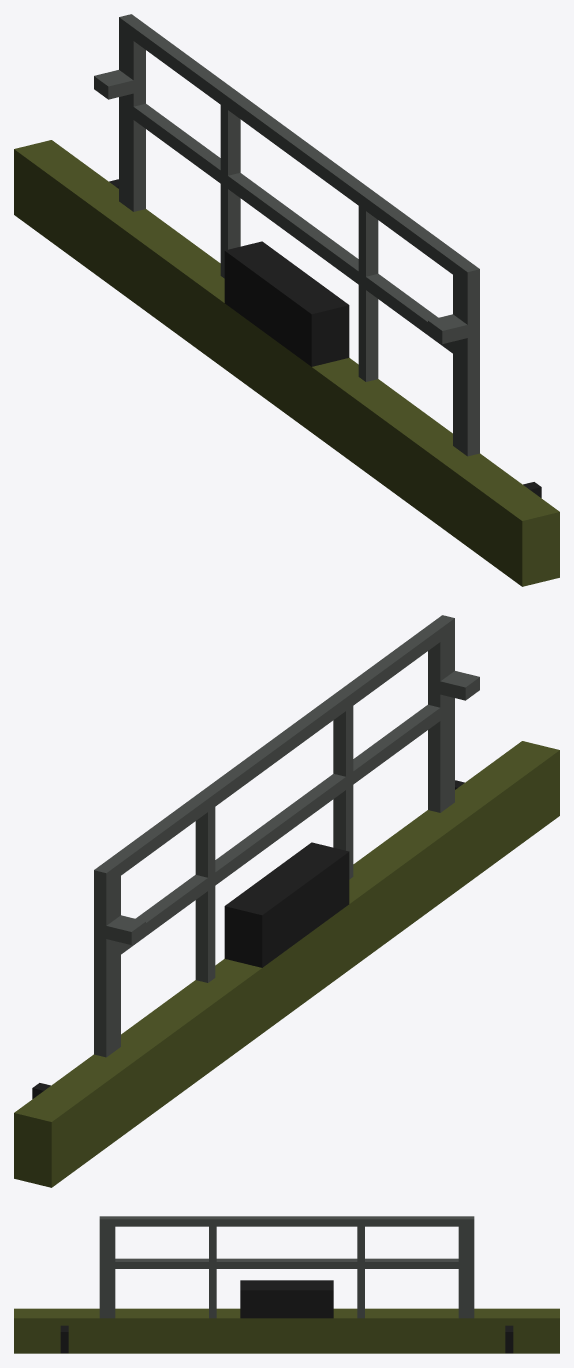
File: utility_4x4_guard.glb
3 renders of one model, top to bottom at view 1: azimuth 30°, elevation 25°; view 2: azimuth 150°, elevation 25°; view 3: azimuth 270°, elevation 25°, orthographic. The views are drawn at different scales.
Visible parts, largest first — view 1: body:compound; view 2: body:compound; view 3: body:compound.
Boxes of the visible parts, x1,y1,x2,y2 form: body:compound: [14, 14, 559, 586]; body:compound: [14, 615, 559, 1187]; body:compound: [14, 1216, 559, 1353].
Size of the model in its own units: 0.1562 by 0.5938 by 2.19.
